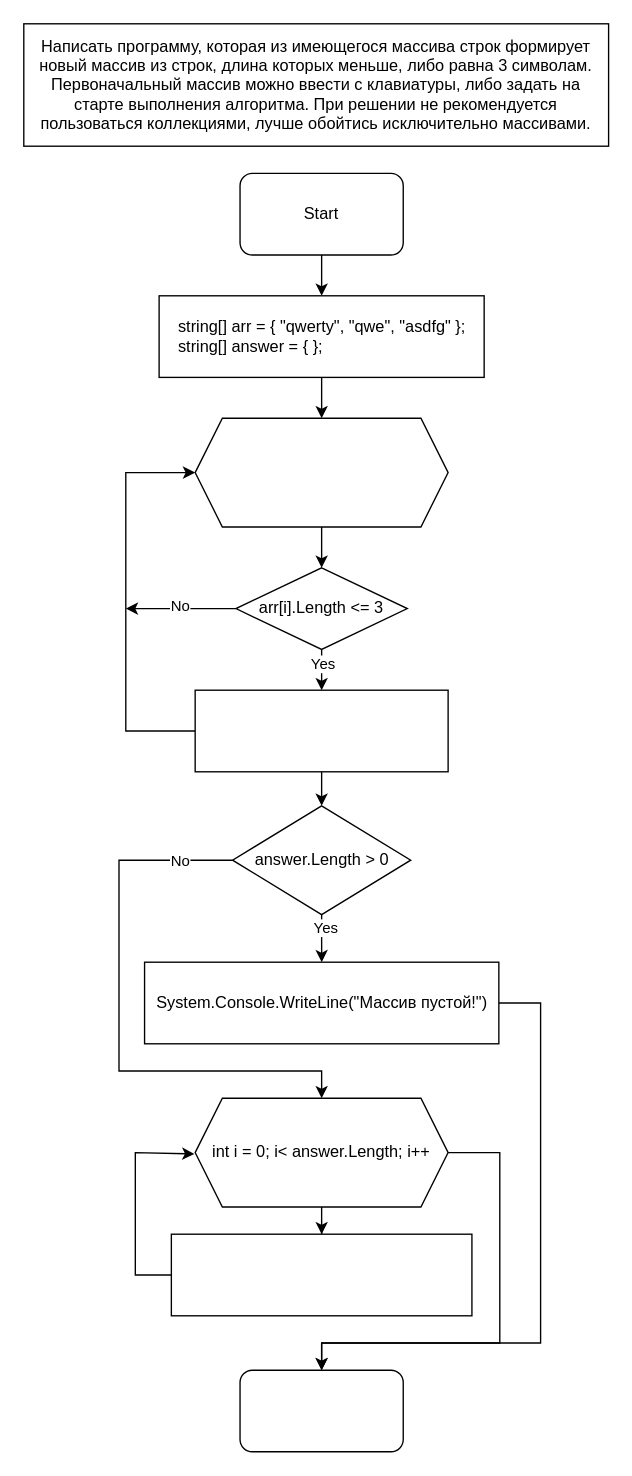
This 632x1476 diagram has some shape labels left out. The shapes that lost their labels are listed below. From the top down, each one's centre as x and y in pixels, then its label:
pixel 321 472: int i = 0; i< arr.Length; i++
pixel 321 730: Array.Resize(ref answer, answer.Length + 1)
pixel 321 1274: System.Console.WriteLine(answer[i])
pixel 321 1410: End
